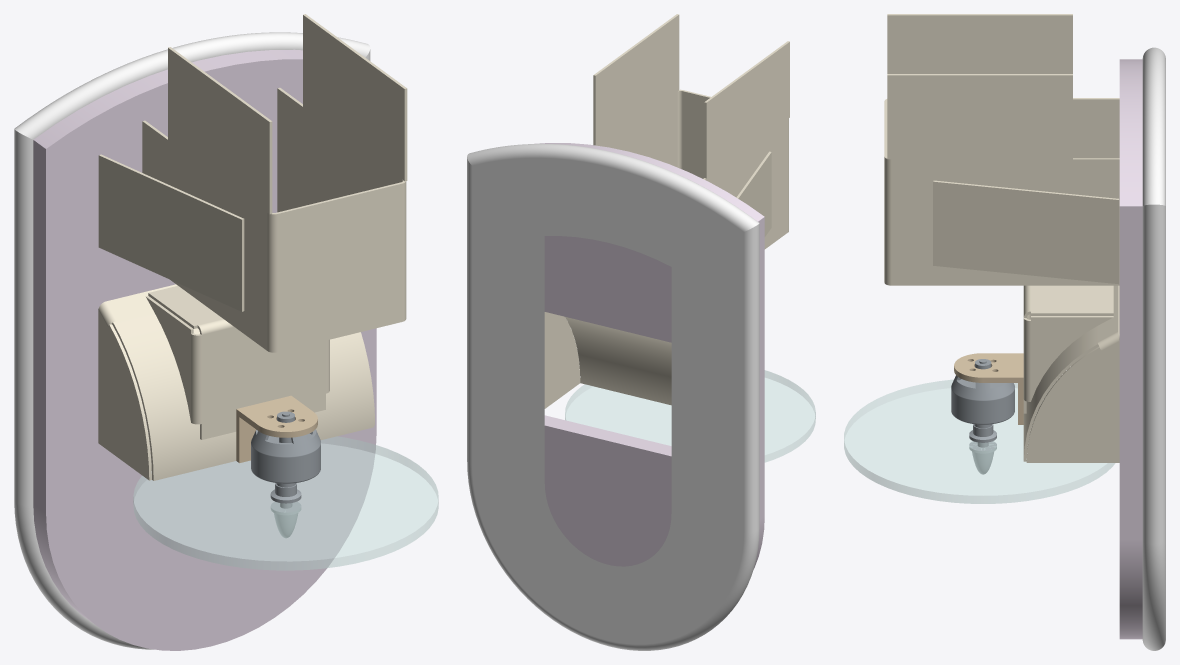
Rendered from hovercraft_mk1.gltf.
The picture shows the model from 3 angles, left to right: view 1: azimuth 30°, elevation 25°; view 2: azimuth 150°, elevation 25°; view 3: azimuth 270°, elevation 25°; orthographic projection. The views are drawn at different scales.
Parts seen in each view (by area): view 1: Part 1, Part 4, Prop, Part 2, Surface 2, Part 6, Part 3, Motor, Part 7; view 2: Surface 2, Part 1, Part 4, Part 2, Prop, Part 6; view 3: Part 4, Prop, Part 5, Surface 2, Part 1, Part 2, Part 3, Motor, Part 7.
Boxes of the visible parts, x1=… form: Part 1: x1=33, y1=49, x2=376, y2=650; Part 4: x1=142, y1=14, x2=407, y2=352; Prop: x1=133, y1=436, x2=438, y2=570; Part 2: x1=98, y1=284, x2=374, y2=480; Surface 2: x1=14, y1=32, x2=370, y2=649; Part 6: x1=98, y1=154, x2=244, y2=311; Part 3: x1=146, y1=286, x2=329, y2=439; Motor: x1=251, y1=411, x2=320, y2=537; Part 7: x1=236, y1=395, x2=317, y2=463; Surface 2: x1=467, y1=143, x2=759, y2=650; Part 1: x1=534, y1=143, x2=764, y2=569; Part 4: x1=593, y1=14, x2=789, y2=249; Part 2: x1=544, y1=312, x2=671, y2=408; Prop: x1=565, y1=370, x2=815, y2=462; Part 6: x1=736, y1=151, x2=771, y2=236; Part 4: x1=884, y1=14, x2=1119, y2=285; Prop: x1=844, y1=379, x2=1115, y2=503; Part 5: x1=933, y1=180, x2=1119, y2=284; Surface 2: x1=1142, y1=47, x2=1165, y2=650; Part 1: x1=1119, y1=59, x2=1142, y2=639; Part 2: x1=1023, y1=285, x2=1119, y2=462; Part 3: x1=1023, y1=285, x2=1113, y2=413; Motor: x1=951, y1=359, x2=1014, y2=474; Part 7: x1=954, y1=353, x2=1023, y2=424.
Size of the model in its own units: 0.2032 by 0.3556 by 0.1761.
